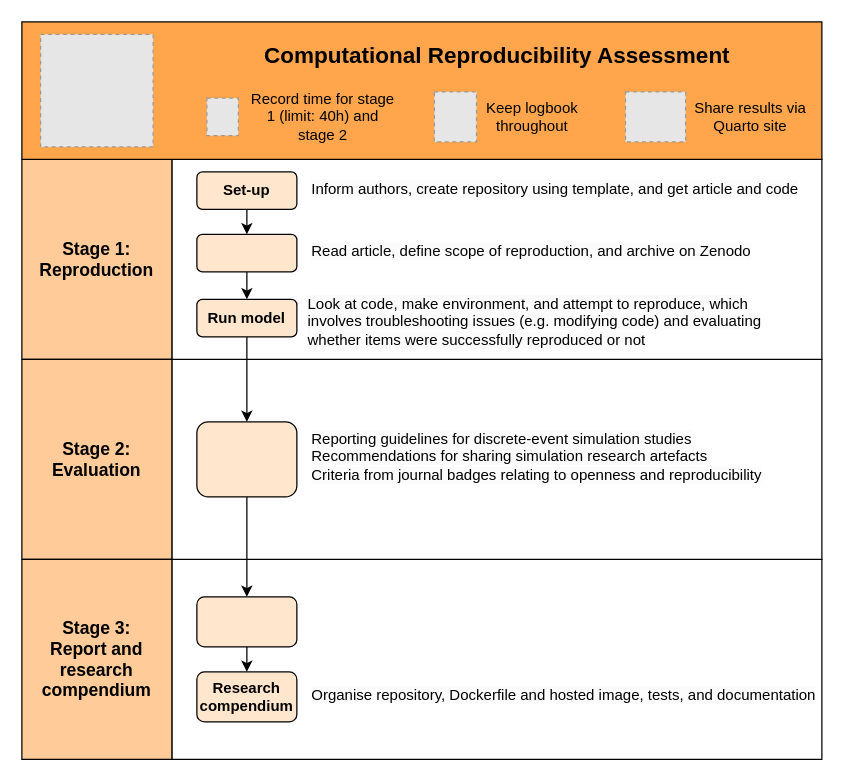
Some shapes in this 856 by 781 pixel diagram are drawn without their labels. Grey dashed boxes stand in for pictures. The shapes that lost their labels are listed below. From the top down, each one's centre as x and y in pixels, then its label:
At point (246, 252): "Scope".
At point (246, 459): "Evaluate against guidelines".
At point (246, 621): "Summary report".
